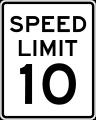Speed Limit -10-: (7, 10, 89, 110)
